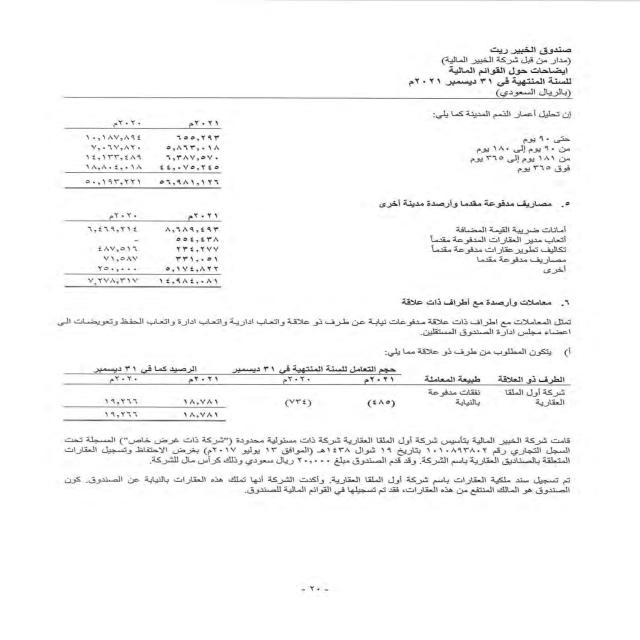notes: (444, 65, 579, 76)
table: (50, 105, 268, 302), (45, 362, 579, 429)
